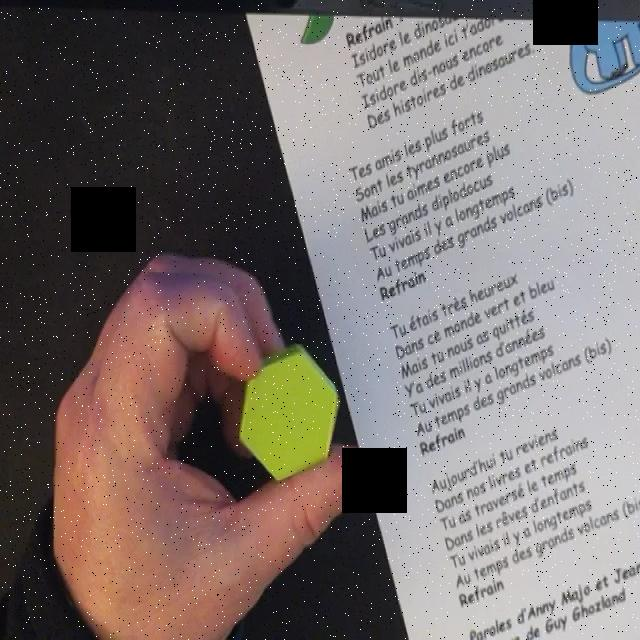hexagon: (239, 346, 341, 485)
